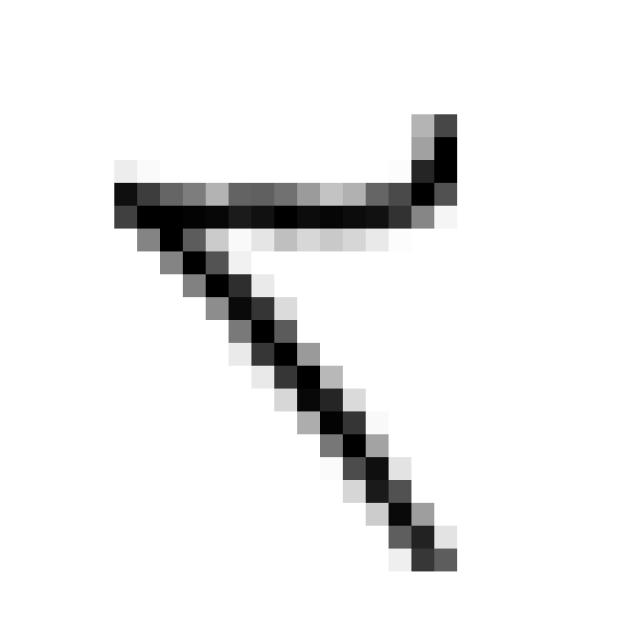3 -three-: (91, 98, 482, 594)
